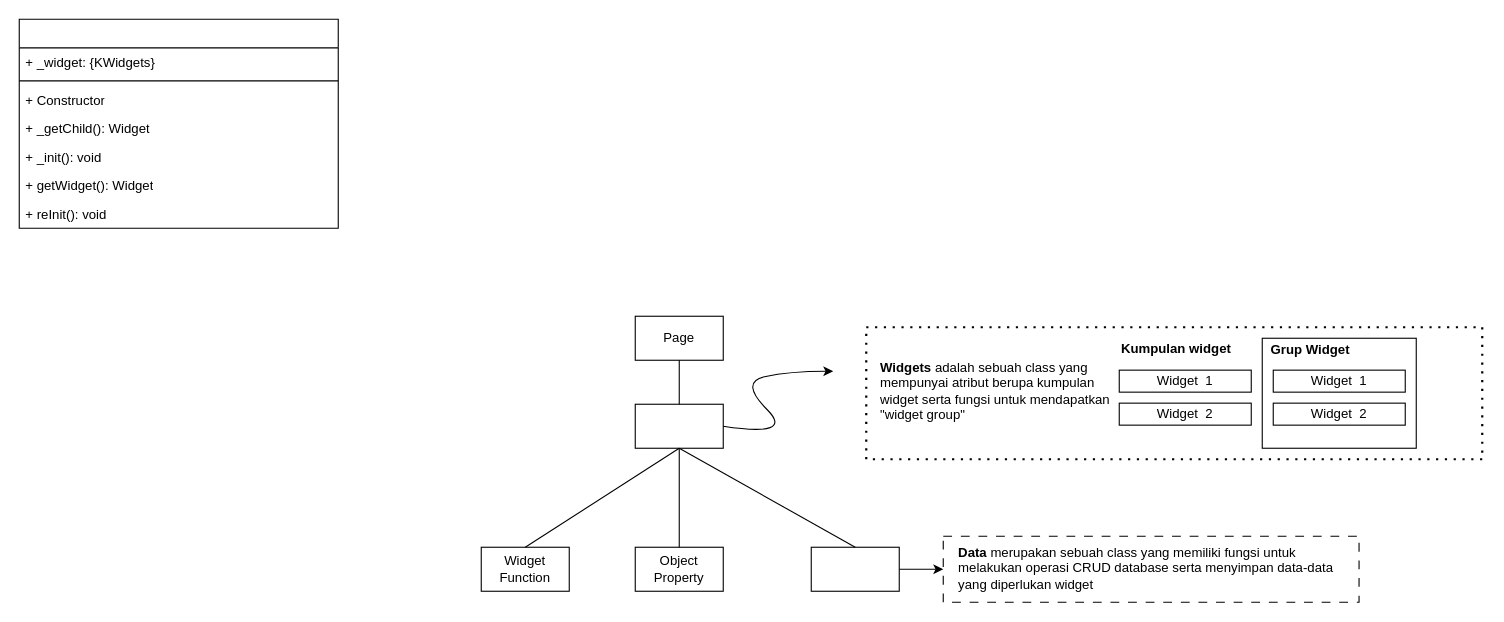
This 1504x622 diagram has some shape labels left out. The shapes that lost their labels are listed below. From the top down, each one's box as (x1, y1, x2, y2) in pixels, then its label:
(18, 18, 338, 228): {WidgetName}
(634, 403, 723, 448): Widgets
(810, 546, 899, 591): Data
